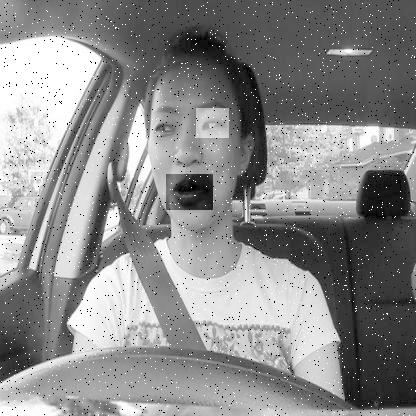seatbelt: (127, 20, 261, 351)
